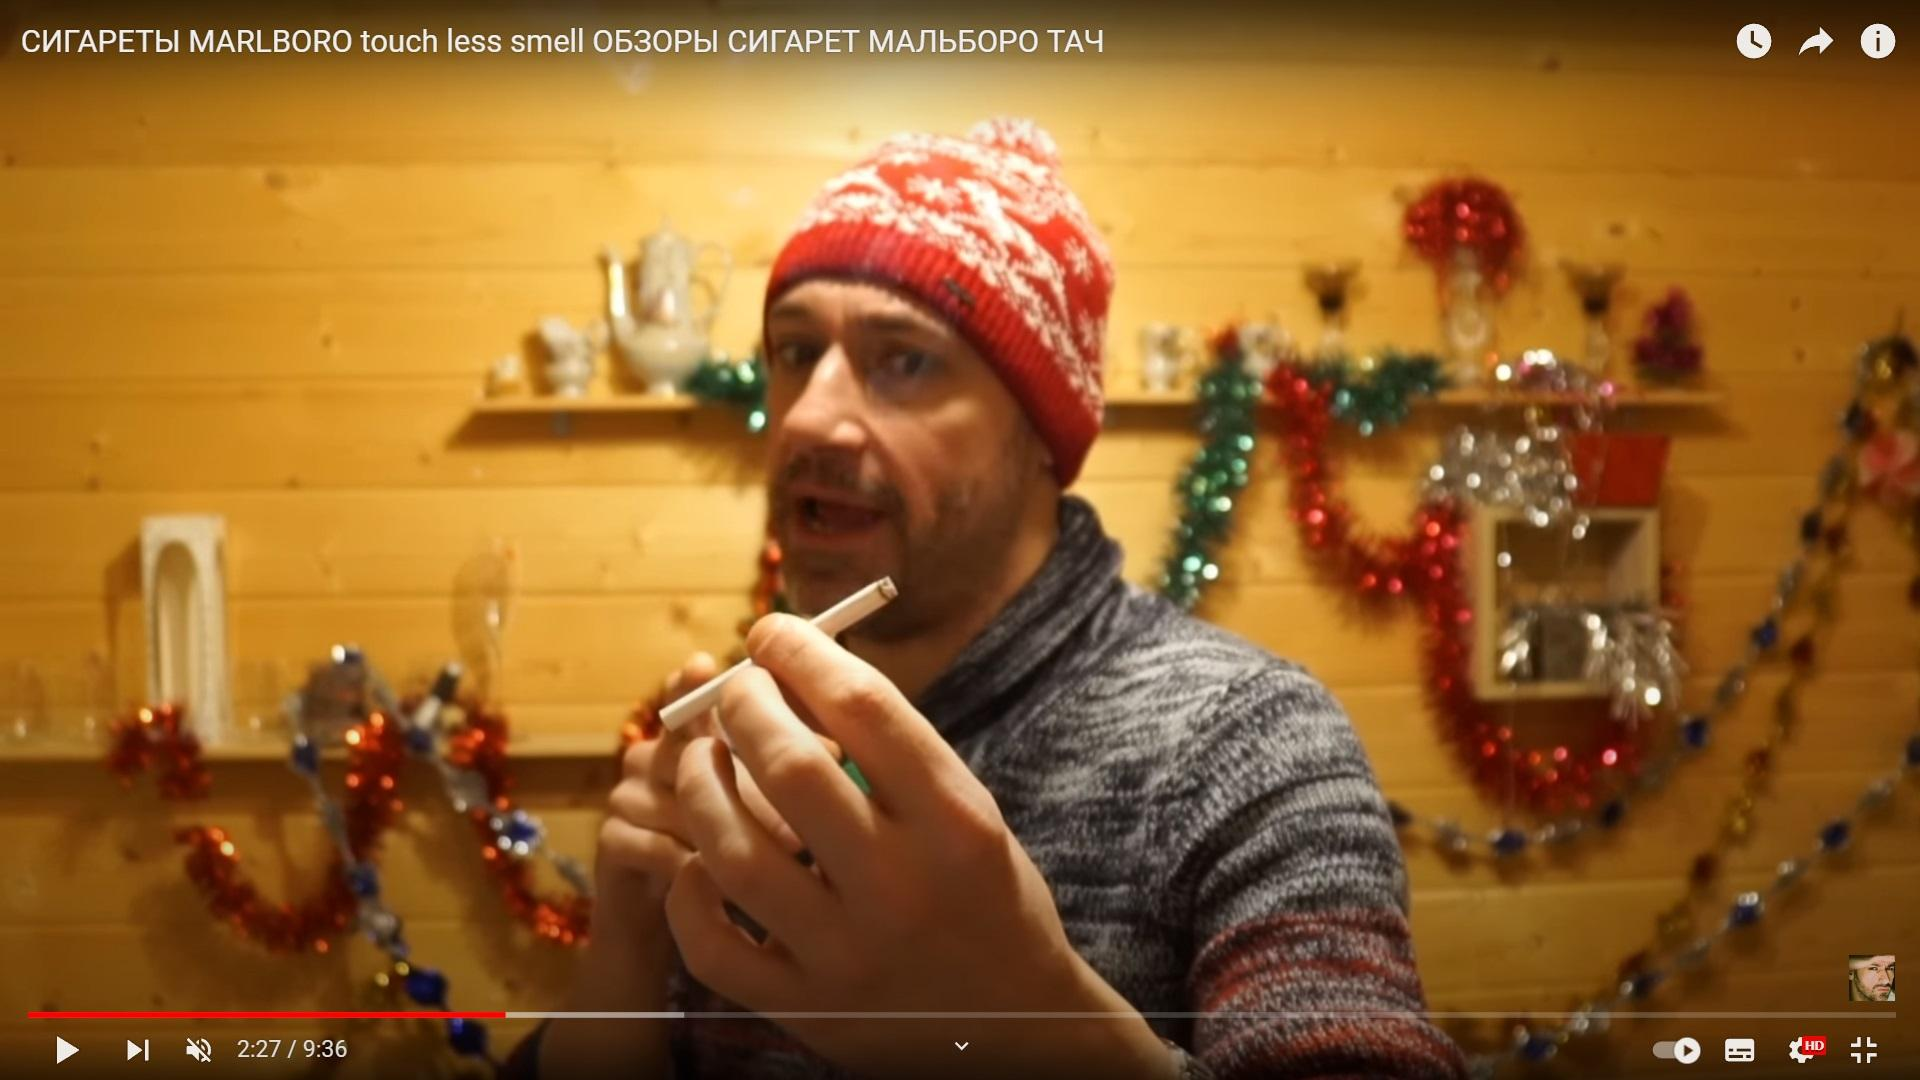cigarette: (659, 578, 897, 733)
